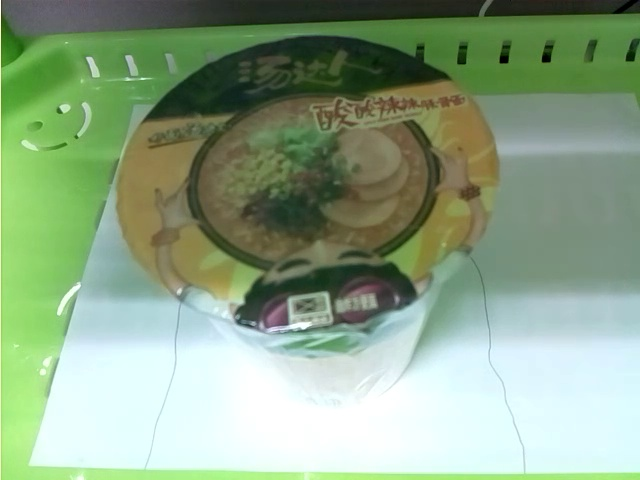noodles: (123, 37, 500, 406)
